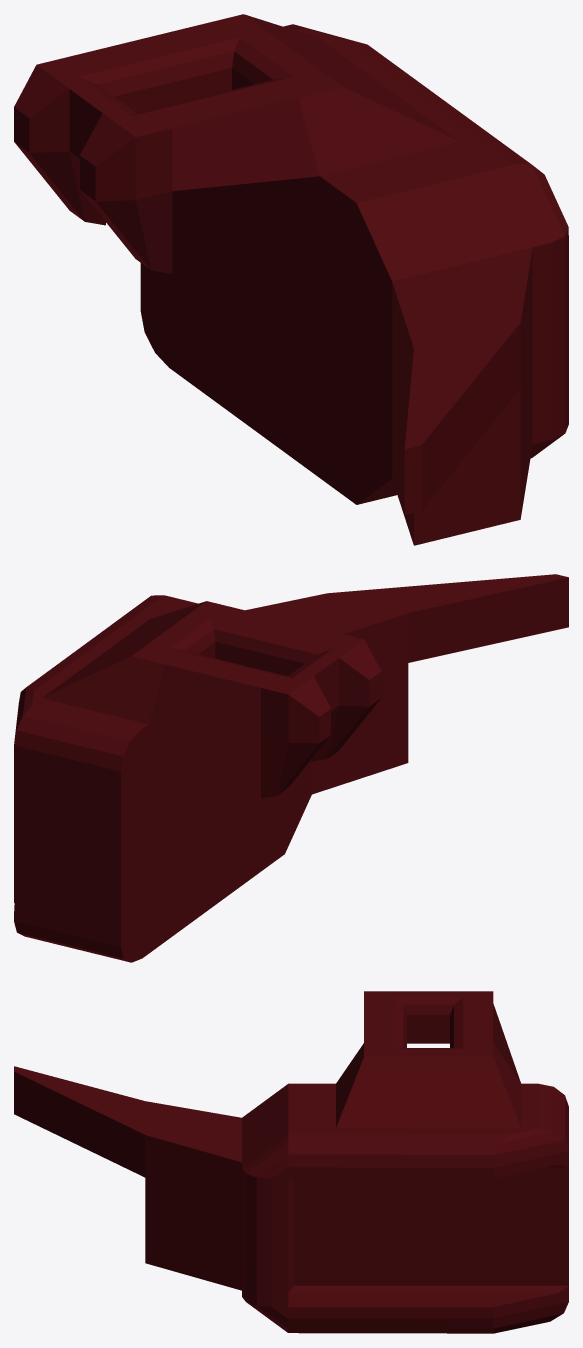
File: cyber_mount_r.glb
3 renders of one model, top to bottom at view 1: azimuth 30°, elevation 25°; view 2: azimuth 150°, elevation 25°; view 3: azimuth 270°, elevation 25°, orthographic. The views are drawn at different scales.
Parts seen in each view (by area): view 1: Mount_R; view 2: Mount_R; view 3: Mount_R.
Boxes of the visible parts, <box> form: Mount_R: <box>14,14,568,545</box>; Mount_R: <box>14,574,568,962</box>; Mount_R: <box>14,991,568,1333</box>.
Bounding box in the file's own units: 0.5171 × 0.4662 × 0.9884.
Materials: 1 (1 with a texture image).
